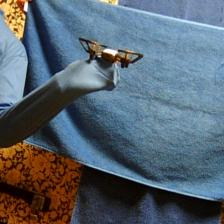drone: (77, 36, 142, 72)
